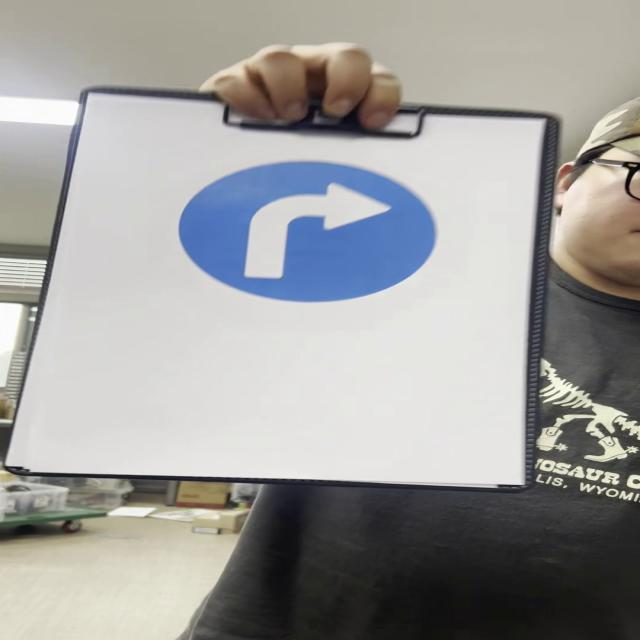right: (181, 160, 439, 304)
